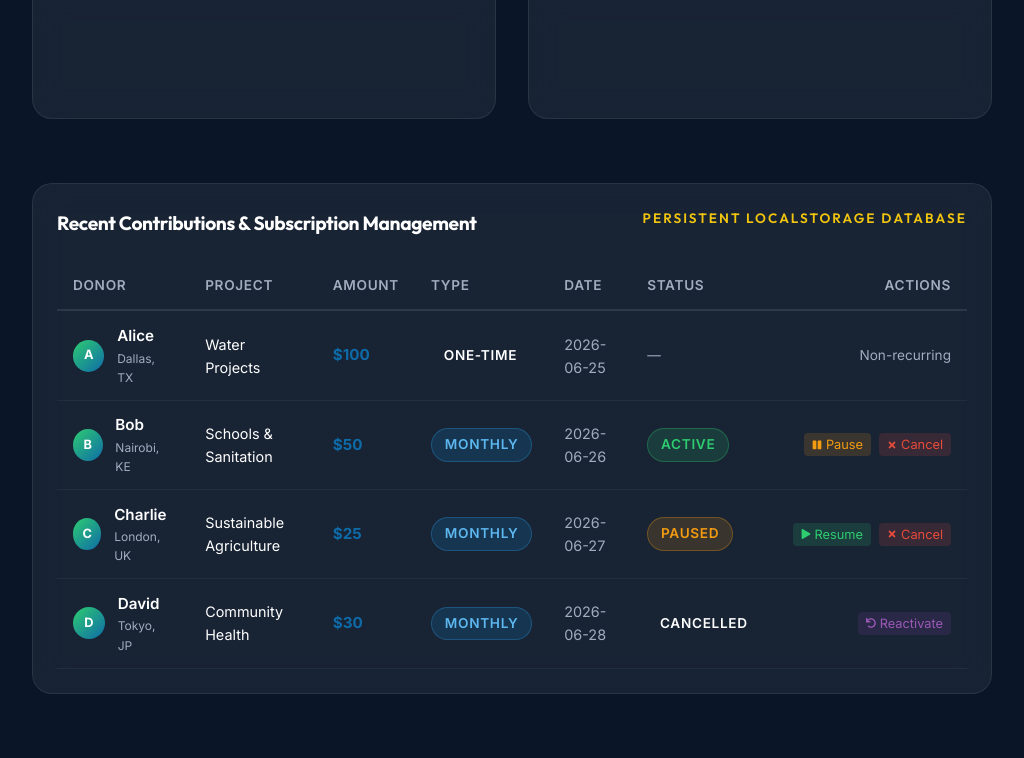
Dashboard Page - Analytics & Subscription Management › pauses, cancels, and resumes/reactivates monthly subscriptions and updates localStorage
This screenshot has width=1024, height=758.
(page scrolled)
Note: Pause Bob's active subscription (id: 2)
Click the button "Pause". click: (838, 445)
box: [804,433,871,456]
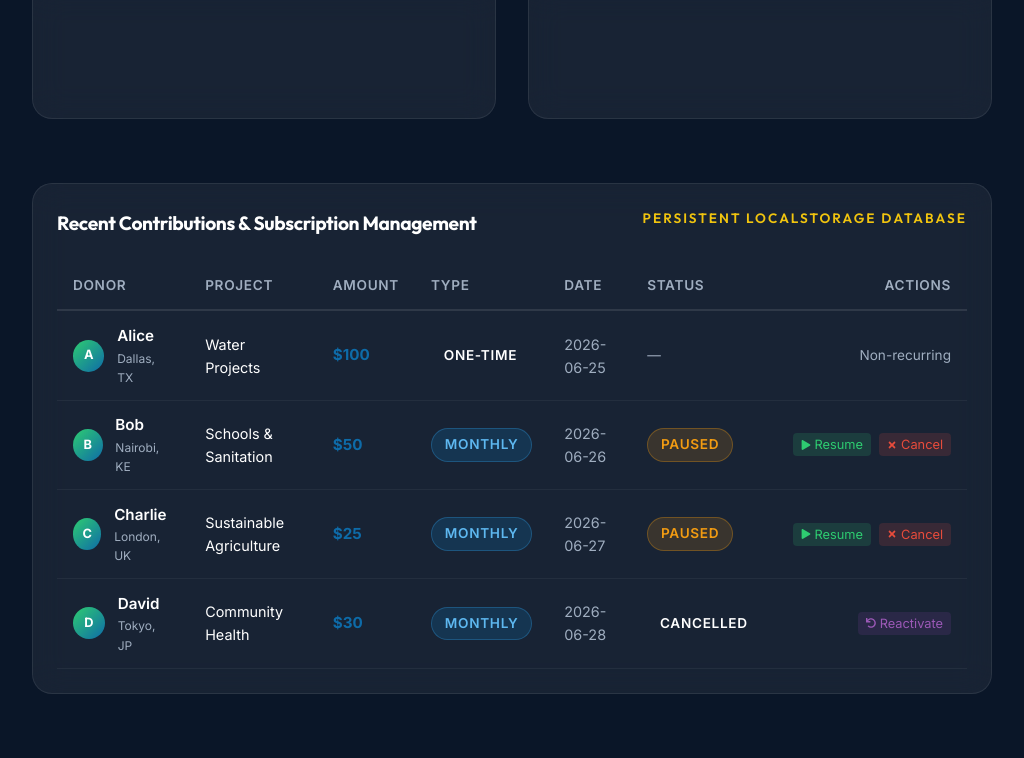
Now the text "Paused" in the row of "Bob" is shown, box [661,436,719,452]
Note: Resume Bob's paused subscription
Click the button "Resume" in the row of "Nairobi, KE". click: (832, 445)
box: [792,433,871,456]
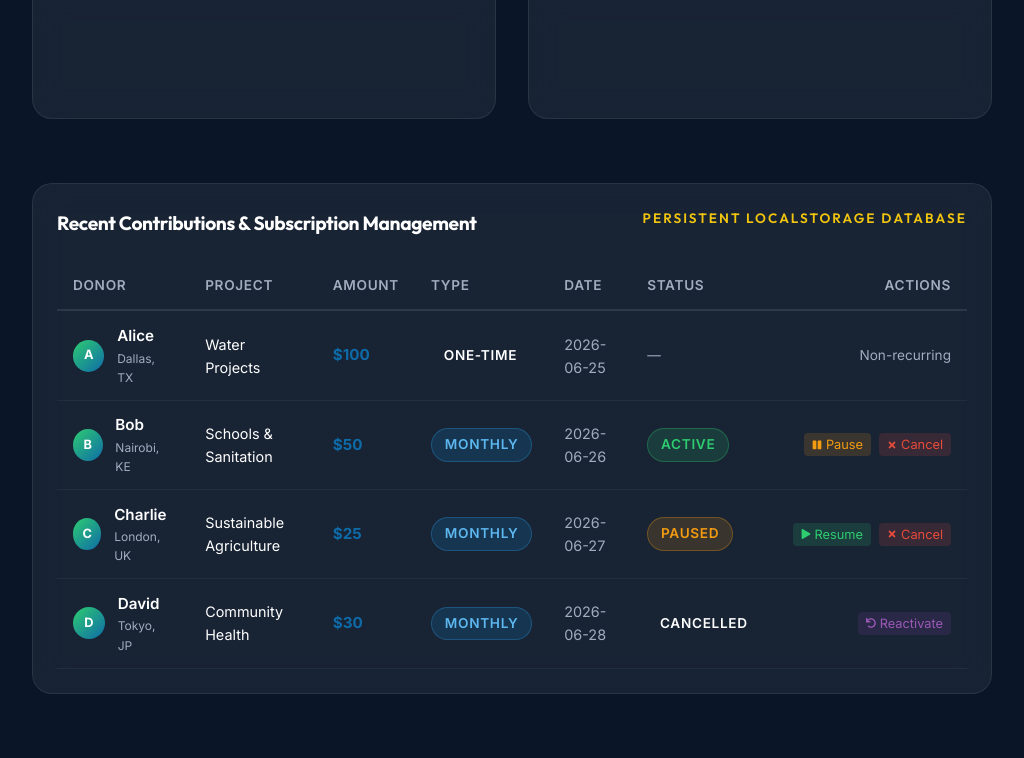
Now the text "Active" is shown, box [647,428,729,462]
Note: Cancel Bob's subscription
Click the button "Cancel" in the row of "Nairobi, KE". click: (915, 445)
box: [879,433,951,456]
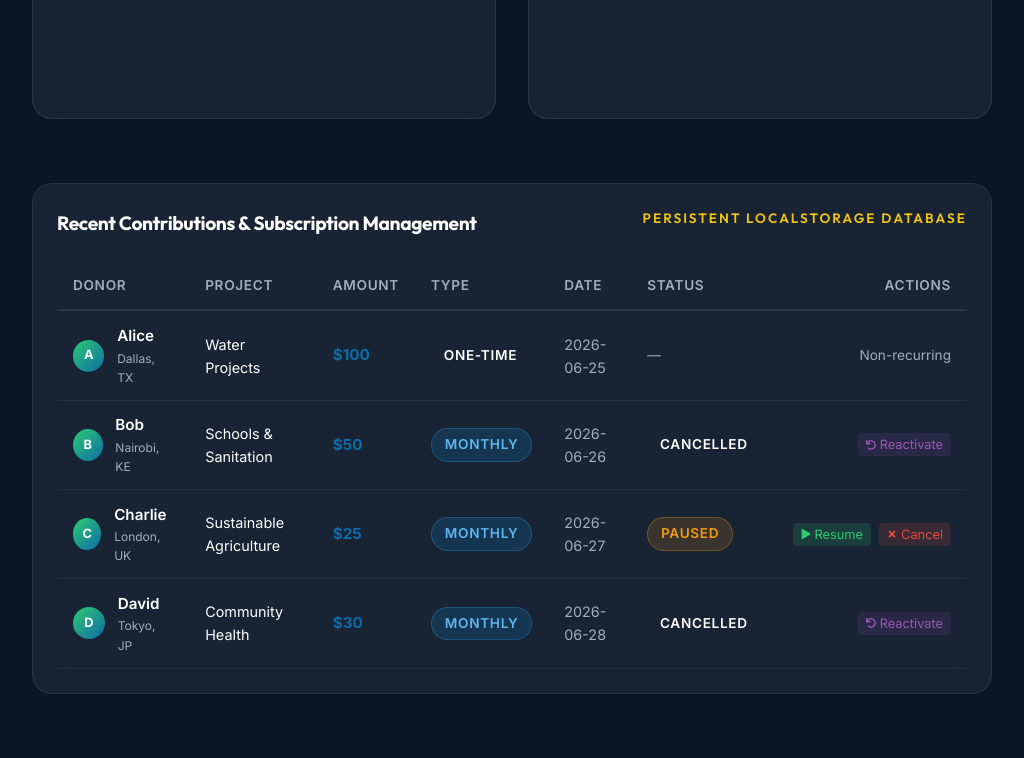
Now the text "Cancelled" in the row of "Bob" is shown, box [660,436,748,452]
Note: Reactivate David's cancelled subscription (id: 4)
Click the button "Reactivate" in the row of "Tokyo, JP". click: (904, 623)
box: [858,612,951,635]
(page scrolled)
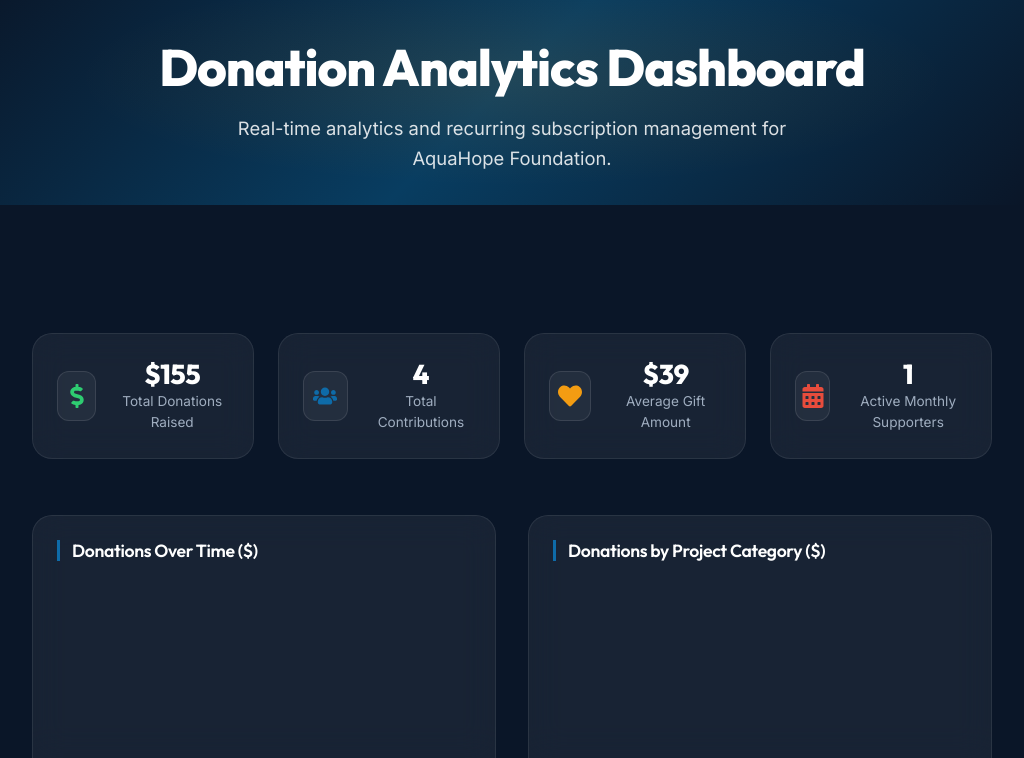
Now the heading "$155" is shown, box [144,357,200,391]
